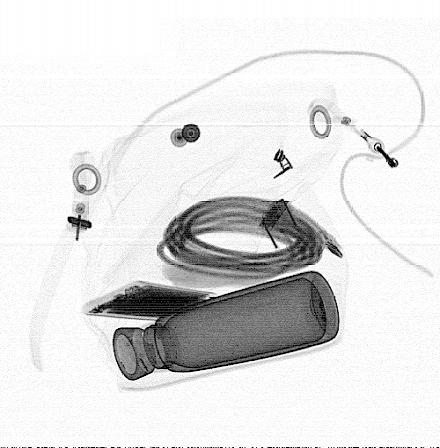Powerbank: (82, 279, 219, 325)
